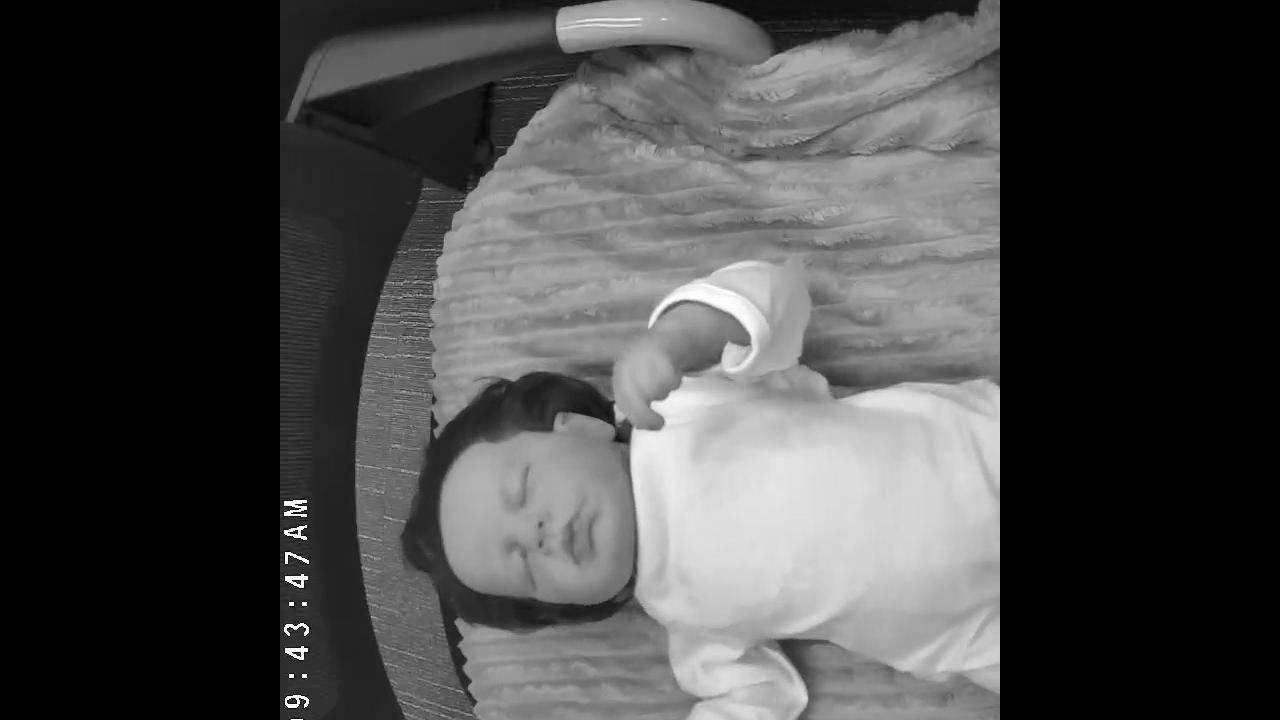hand: (610, 326, 692, 432)
